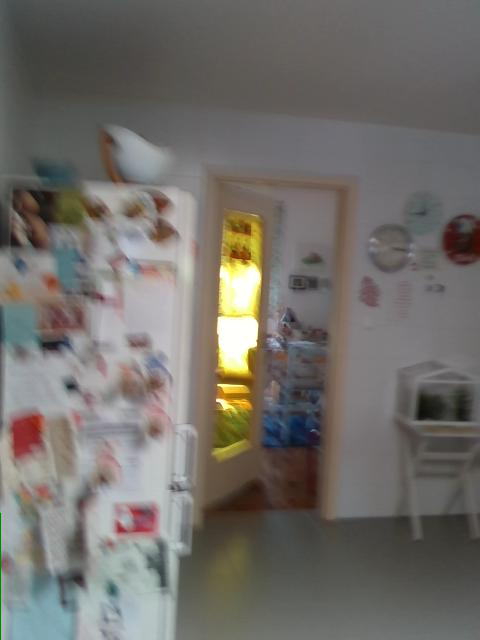semi_door: (185, 163, 360, 523)
